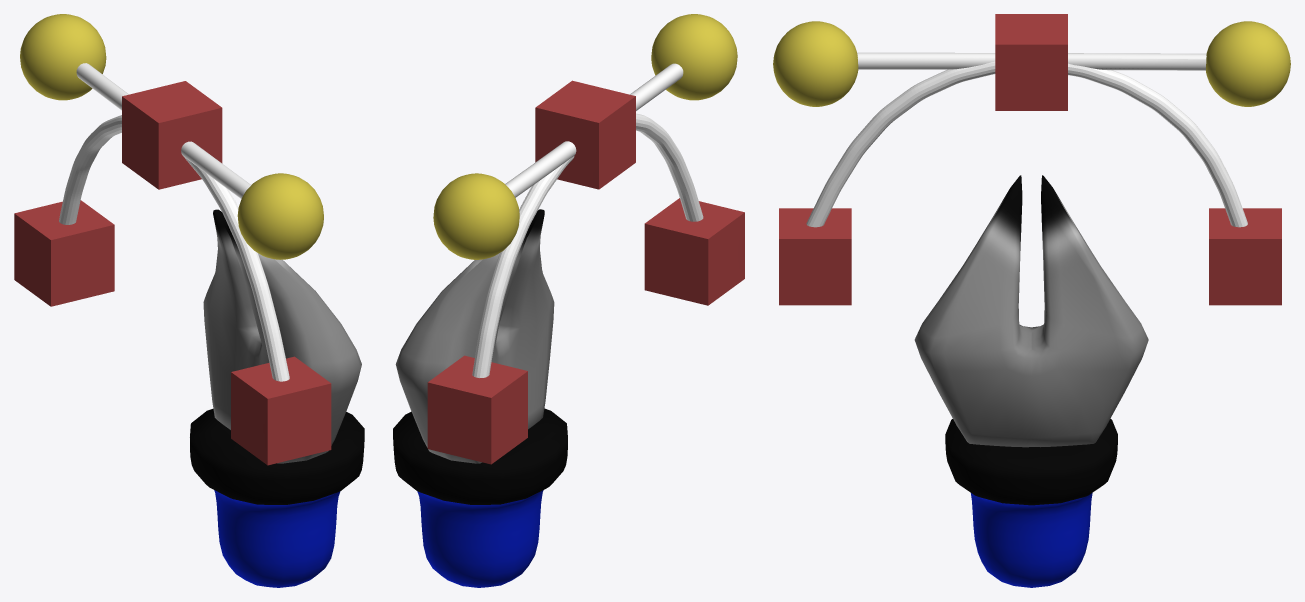
File: graphisme.glb
3 views of the same model, side by side, from view 1: azimuth 30°, elevation 25°; view 2: azimuth 150°, elevation 25°; view 3: azimuth 270°, elevation 25° (orthographic).
Visible parts, largest first — view 1: Cube.001; view 2: Cube.001; view 3: Cube.001.
Part boxes in pixels (x1,y1,x2,y2): Cube.001: (14,14,364,587); Cube.001: (393,14,744,587); Cube.001: (773,14,1290,587).
Bounding box in the file's own units: 2.18 × 4.86 × 4.53.
Materials: 1 (1 with a texture image).
